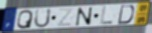D: (116, 4, 135, 25)
L: (99, 6, 114, 26)
N: (75, 7, 93, 27)
Q: (16, 9, 34, 30)
U: (33, 8, 52, 29)
Z: (56, 7, 75, 28)
